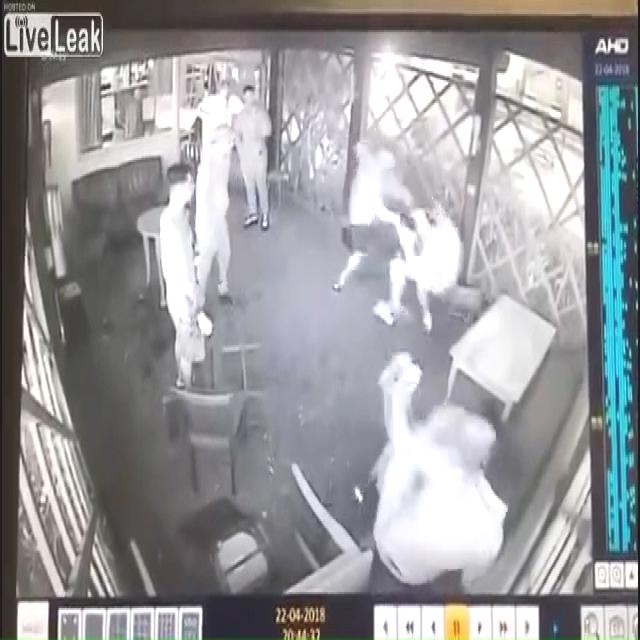fight: (331, 134, 464, 337)
